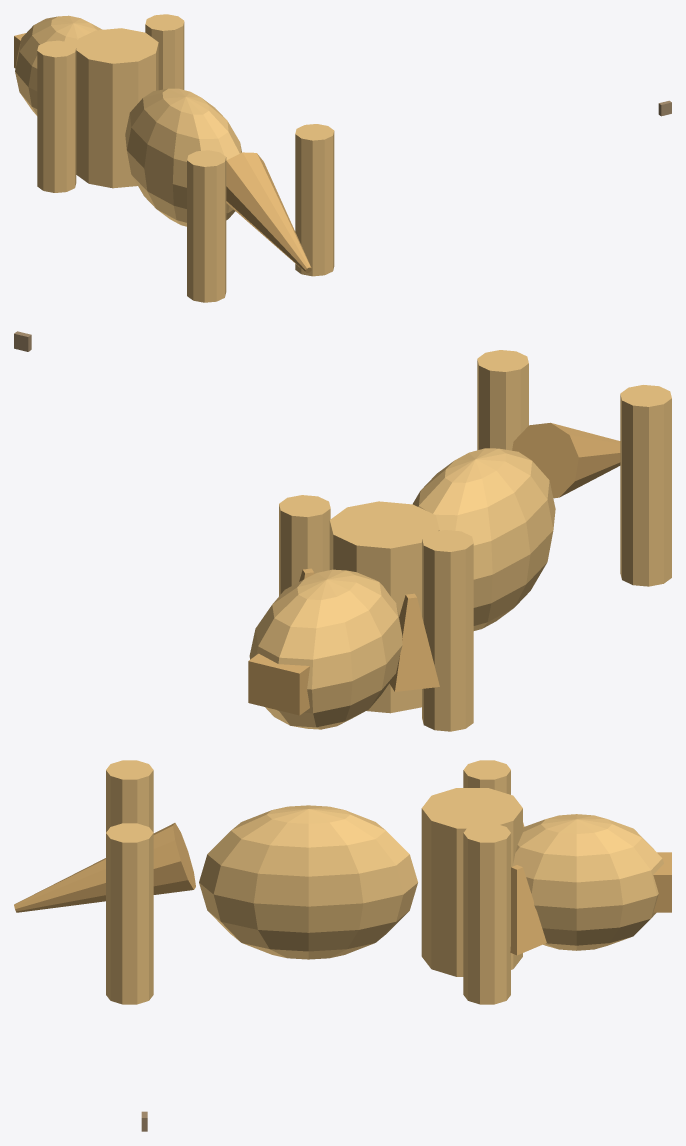
File: animal_mina.glb
The picture shows the model from 3 angles, top to bottom: view 1: azimuth 30°, elevation 25°; view 2: azimuth 150°, elevation 25°; view 3: azimuth 270°, elevation 25°; orthographic projection. The views are drawn at different scales.
Parts seen in each view (by area): view 1: mina_neck.002, mina_body.002, mina_leg_FL.002, mina_leg_BL.002, mina_leg_BR.002, mina_tail.002, mina_head.002, mina_leg_FR.002; view 2: mina_head.002, mina_body.002, mina_leg_BL.002, mina_leg_FL.002, mina_neck.002, mina_tail.002, mina_leg_BR.002, mina_leg_FR.002, mina_mukon.002, mina_telinga_l.002; view 3: mina_body.002, mina_head.002, mina_neck.002, mina_leg_BR.002, mina_leg_FR.002, mina_tail.002, mina_leg_BL.002, mina_telinga_r.002, mina_leg_FL.002, mina_mukon.002.
Boxes of the visible parts, bbox=[...] form: mina_neck.002: bbox=[76, 28, 158, 188]; mina_body.002: bbox=[125, 88, 241, 226]; mina_leg_FL.002: bbox=[37, 40, 76, 192]; mina_leg_BL.002: bbox=[187, 150, 226, 302]; mina_leg_BR.002: bbox=[295, 124, 334, 276]; mina_tail.002: bbox=[226, 152, 311, 272]; mina_head.002: bbox=[15, 15, 102, 115]; mina_leg_FR.002: bbox=[145, 14, 184, 90]; mina_head.002: bbox=[249, 569, 402, 729]; mina_body.002: bbox=[413, 448, 555, 630]; mina_leg_BL.002: bbox=[620, 385, 671, 586]; mina_leg_FL.002: bbox=[422, 530, 473, 731]; mina_neck.002: bbox=[329, 501, 439, 713]; mina_tail.002: bbox=[512, 422, 620, 498]; mina_leg_BR.002: bbox=[477, 350, 528, 450]; mina_leg_FR.002: bbox=[279, 495, 330, 595]; mina_mukon.002: bbox=[248, 653, 309, 715]; mina_telinga_l.002: bbox=[389, 593, 439, 691]; mina_body.002: bbox=[199, 805, 417, 959]; mina_head.002: bbox=[512, 814, 663, 950]; mina_neck.002: bbox=[421, 788, 522, 976]; mina_leg_BR.002: bbox=[106, 823, 153, 1004]; mina_leg_FR.002: bbox=[463, 823, 510, 1004]; mina_tail.002: bbox=[14, 823, 195, 912]; mina_leg_BL.002: bbox=[106, 760, 153, 832]; mina_telinga_r.002: bbox=[510, 865, 546, 955]; mina_leg_FL.002: bbox=[463, 760, 510, 794]; mina_mukon.002: bbox=[653, 852, 671, 912].
Size of the model in its own units: 2.25 by 0.6 by 2.21.
